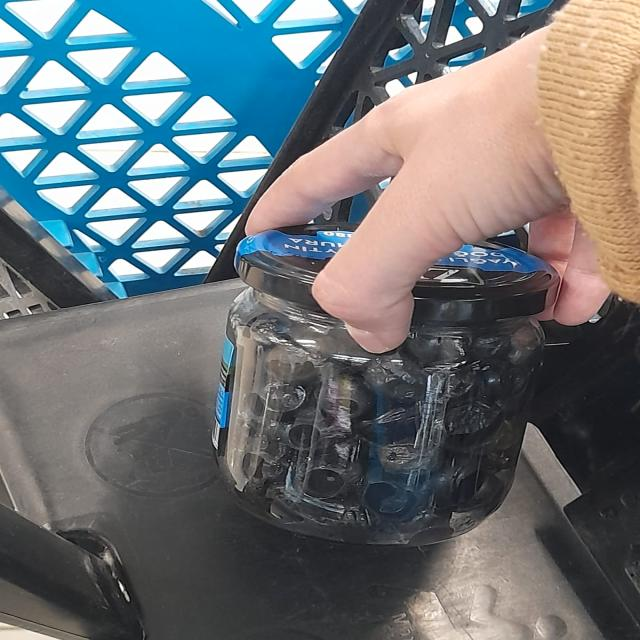olive: (199, 227, 585, 554), (296, 365, 499, 521)
